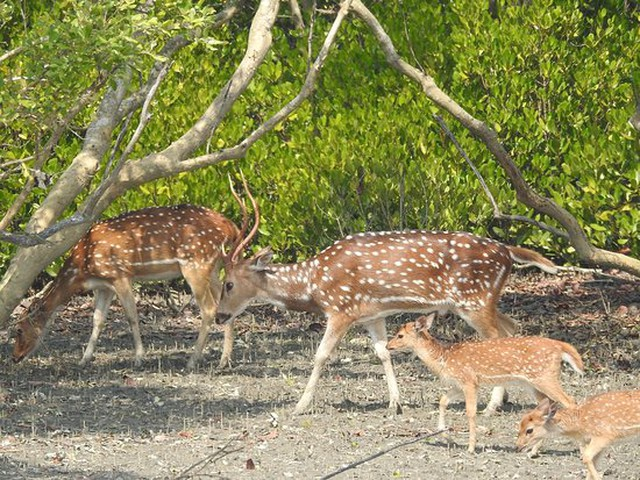deer: (8, 184, 217, 367), (220, 201, 385, 417), (387, 308, 577, 394), (509, 390, 639, 480)
